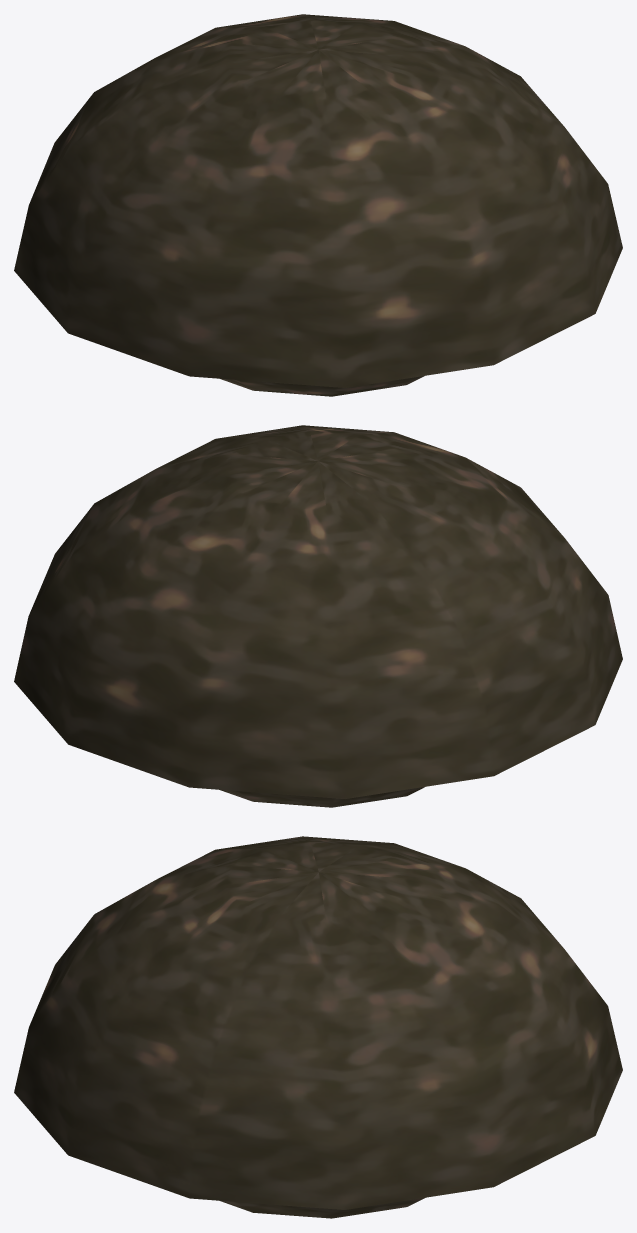
File: env_kam_building_ext_01_pre.glb
The picture shows the model from 3 angles, top to bottom: view 1: azimuth 30°, elevation 25°; view 2: azimuth 150°, elevation 25°; view 3: azimuth 270°, elevation 25°; orthographic projection.
Parts seen in each view (by area): view 1: skybox_01_mesh, waterbox; view 2: skybox_01_mesh, waterbox; view 3: skybox_01_mesh, waterbox.
Boxes of the visible parts, x1,y1,x2,y2 form: skybox_01_mesh: (14,14,622,387); waterbox: (220,376,424,396); skybox_01_mesh: (14,425,622,798); waterbox: (219,787,424,807); skybox_01_mesh: (14,836,622,1209); waterbox: (219,1197,425,1218).
Size of the model in its own units: 2037 by 1166 by 2037.
Materials: 11 (11 with a texture image).
